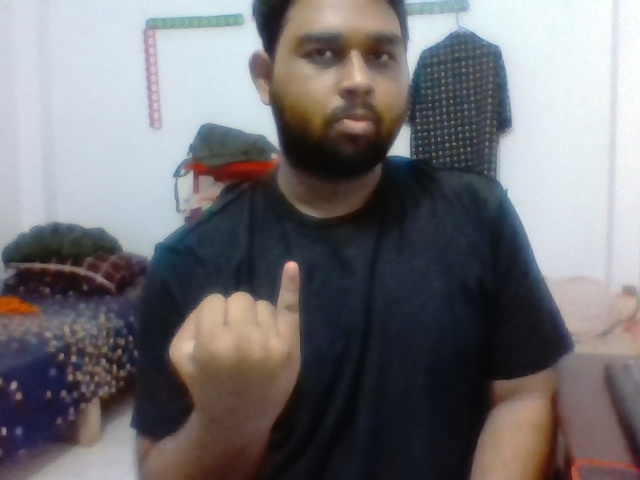I: (156, 251, 318, 413)
